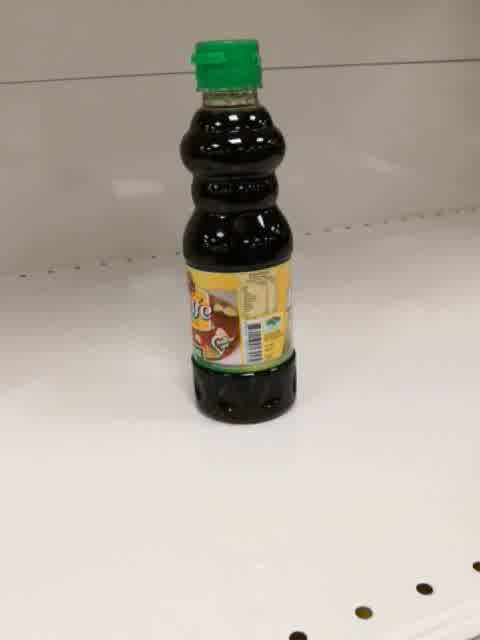cookingoil: (177, 37, 298, 426)
